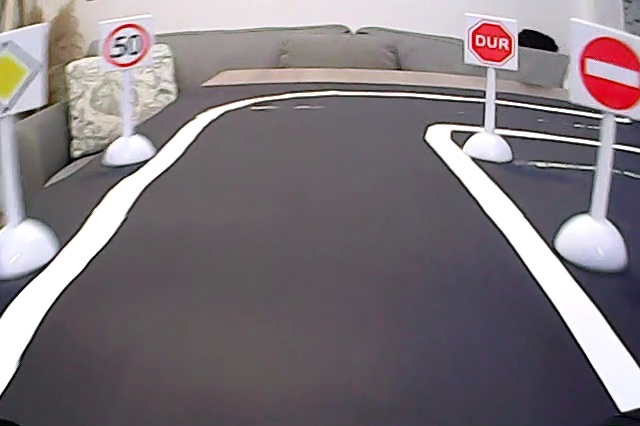do not enter: (574, 20, 640, 116)
speed limit 50: (100, 22, 153, 72)
stop sign: (465, 14, 518, 71)
